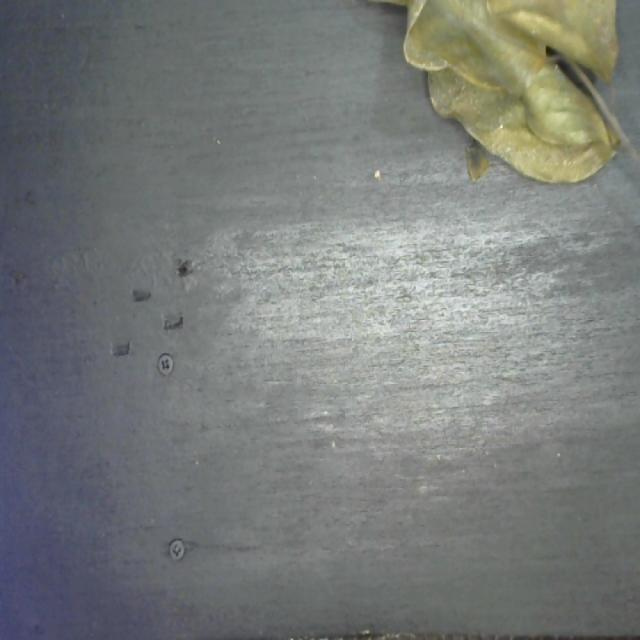biodegradable: (360, 0, 640, 190)
